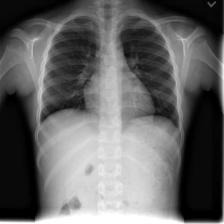normal: (36, 10, 182, 135)
